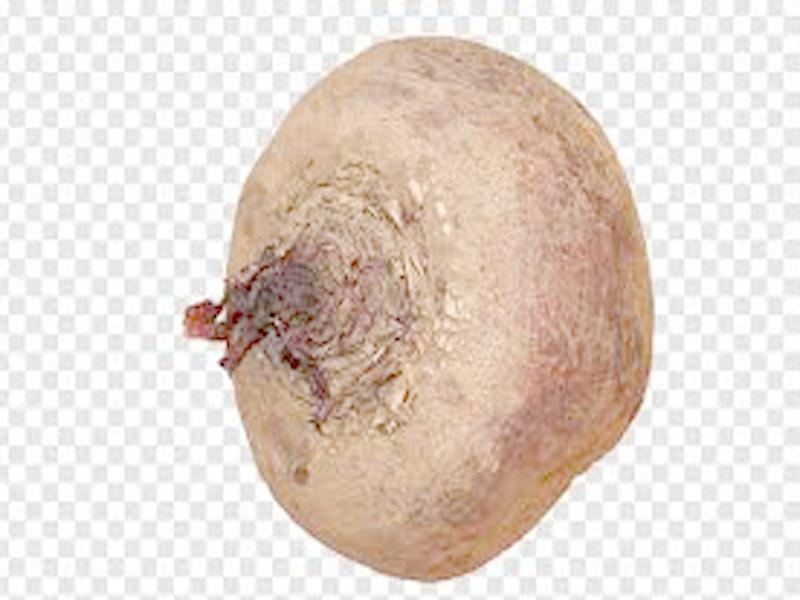Beet: (182, 39, 651, 577)
